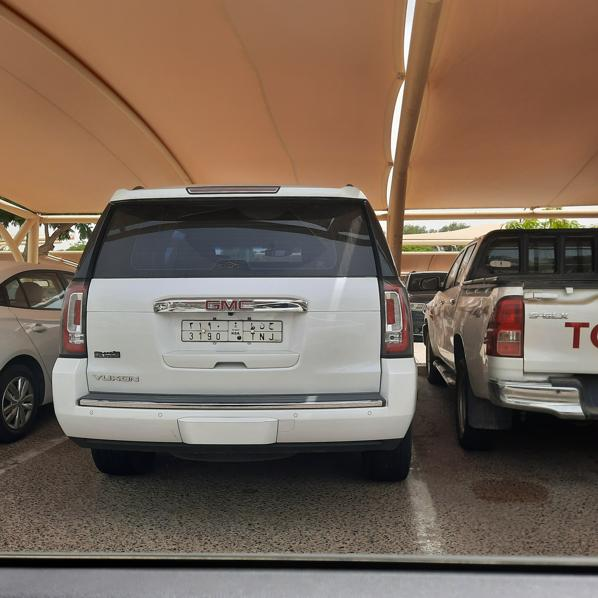numberplate: (182, 318, 286, 345)
